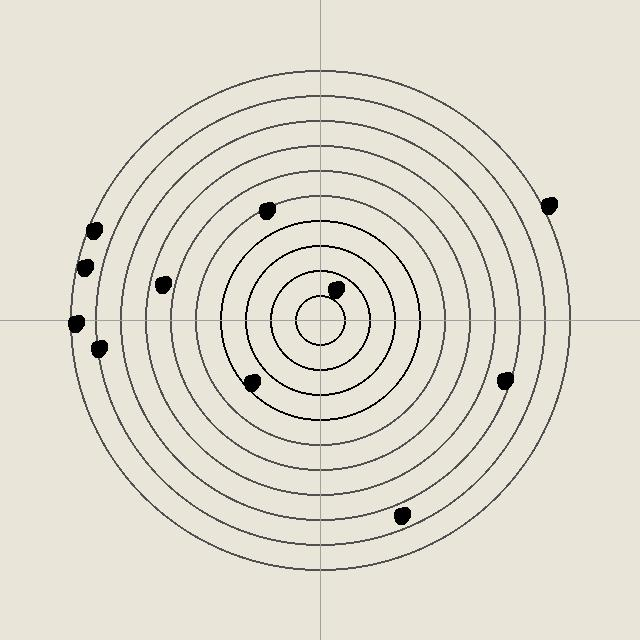random_scatter: (538, 195, 558, 215), (83, 220, 103, 240), (152, 274, 172, 294), (494, 370, 514, 390), (241, 372, 261, 392), (256, 200, 276, 220), (74, 257, 94, 277), (391, 505, 411, 525), (325, 279, 345, 299), (65, 313, 85, 333), (88, 338, 108, 358)
